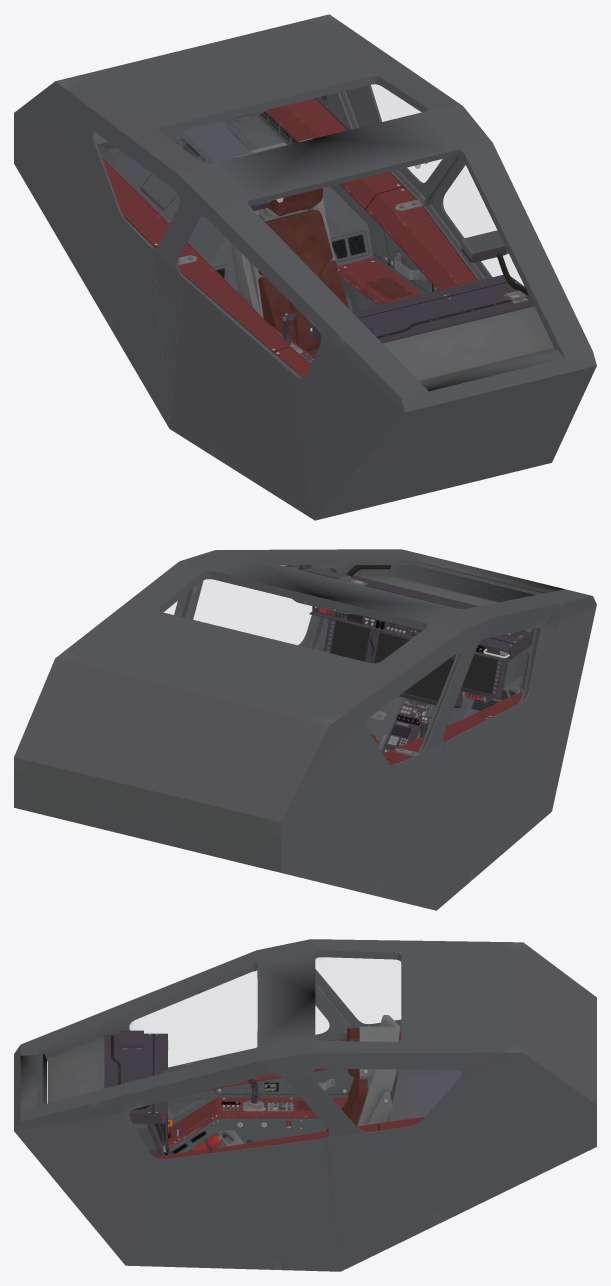
File: cockpit-mobile.glb
3 views of the same model, one above another, from view 1: azimuth 30°, elevation 25°; view 2: azimuth 150°, elevation 25°; view 3: azimuth 270°, elevation 25° (orthographic). The views are drawn at different scales.
Parts seen in each view (by area): view 1: VA_Cockpit5_Body, VA_Cockpit5_Seat; view 2: VA_Cockpit5_Body, VA_Cockpit5_ScreenMid_Cockpit5_ScreenMid_0, VA_Cockpit5_ScreenLeft_Cockpit5_ScreenLeft_0, VA_Cockpit5_ScreenRight_Cockpit5_ScreenRight_0; view 3: VA_Cockpit5_Body, VA_Cockpit5_Seat.
Boxes of the visible parts, x1,y1,x2,y2 form: VA_Cockpit5_Body: [14, 14, 596, 520]; VA_Cockpit5_Seat: [230, 138, 349, 356]; VA_Cockpit5_Body: [14, 549, 596, 910]; VA_Cockpit5_ScreenMid_Cockpit5_ScreenMid_0: [374, 632, 452, 701]; VA_Cockpit5_ScreenLeft_Cockpit5_ScreenLeft_0: [330, 620, 370, 661]; VA_Cockpit5_ScreenRight_Cockpit5_ScreenRight_0: [462, 654, 497, 694]; VA_Cockpit5_Body: [14, 939, 596, 1271]; VA_Cockpit5_Seat: [326, 1015, 400, 1130].
Size of the model in its own units: 164 by 149 by 353.
Materials: 5 (5 with a texture image).
